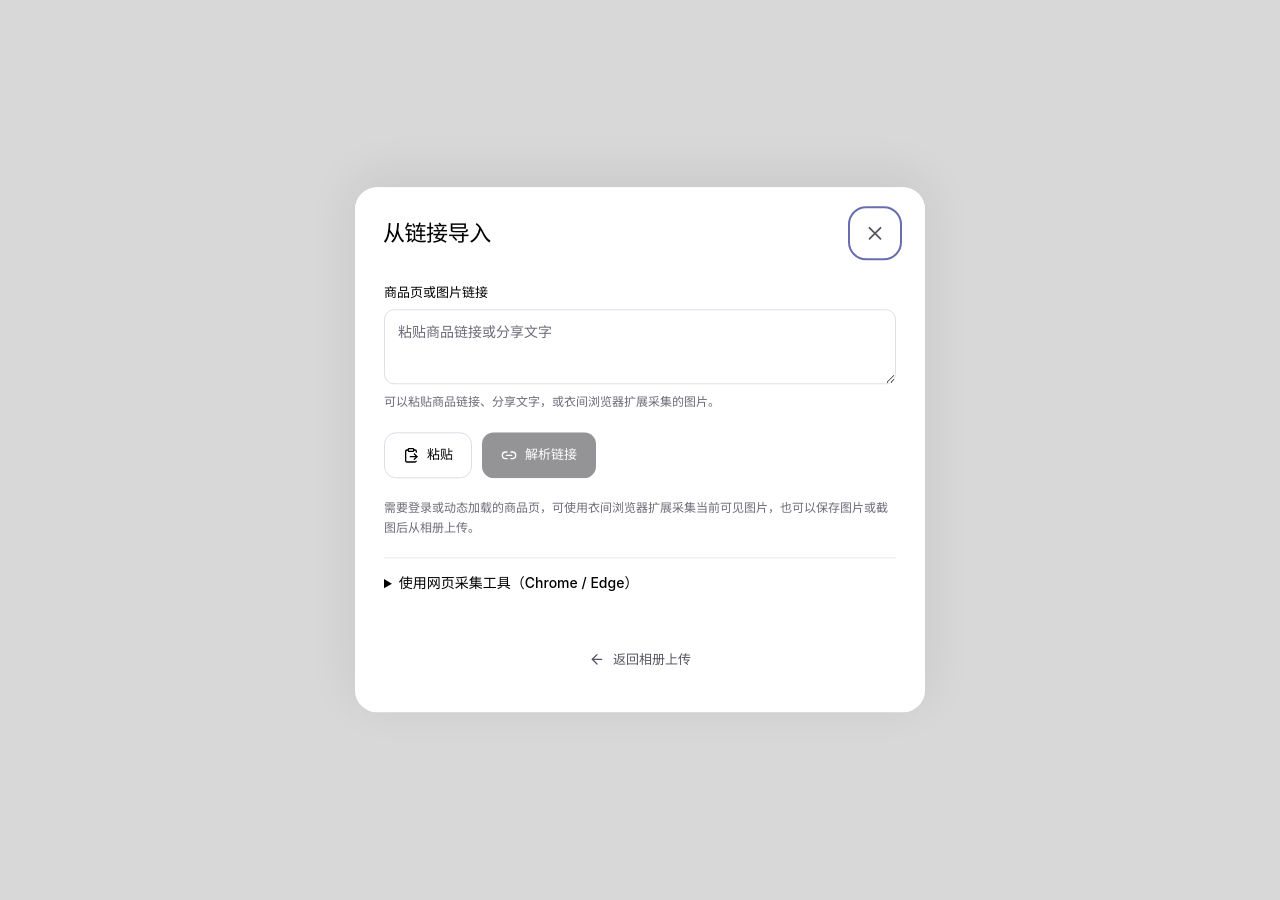
Test: reads the clipboard only after a click, without automatically parsing its contents
Click the button "粘贴".
click(428, 455)  # box [384,432,472,478]
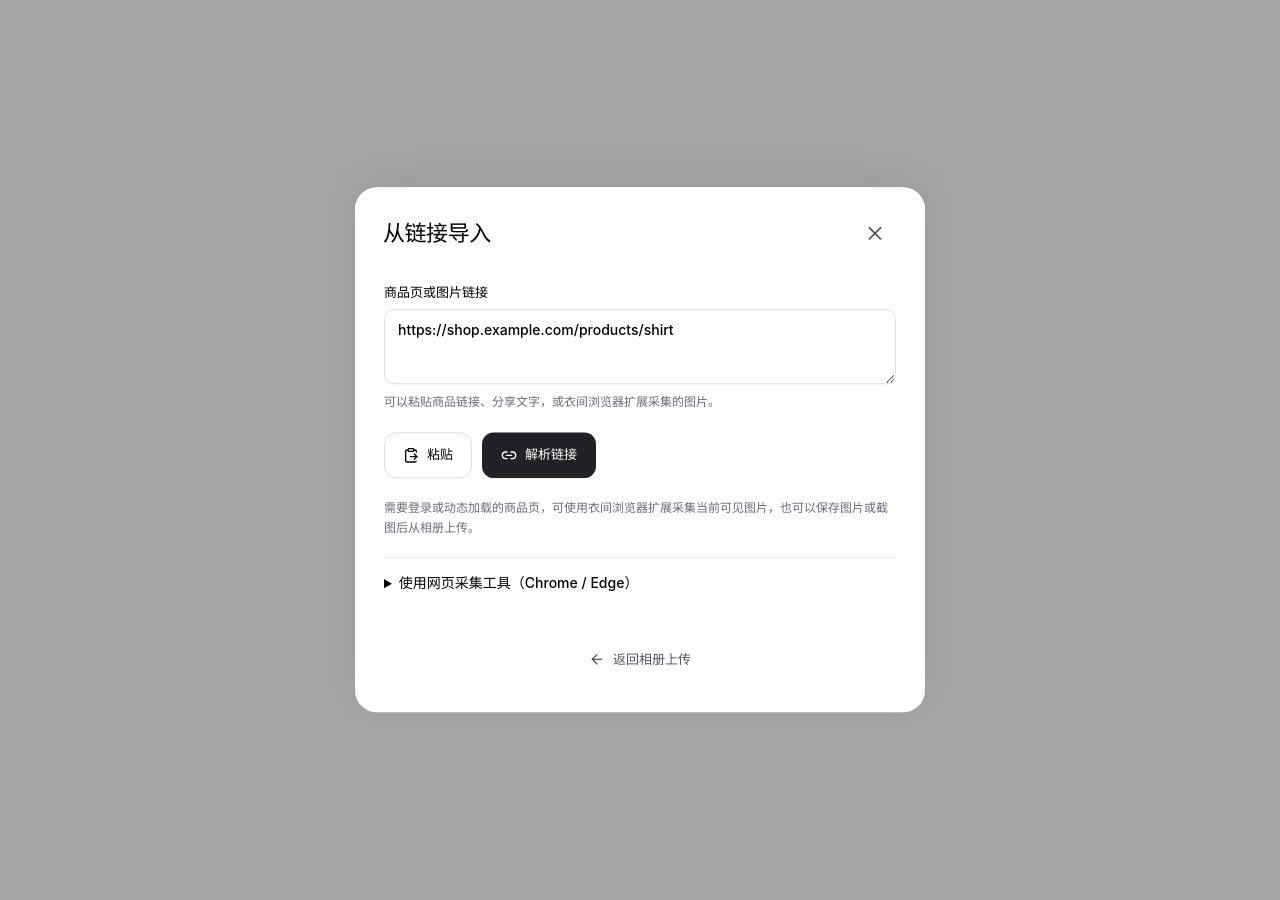
Now the text box labelled "商品页或图片链接" holds "https://shop.example.com/products/shirt", box [384,309,896,384]
